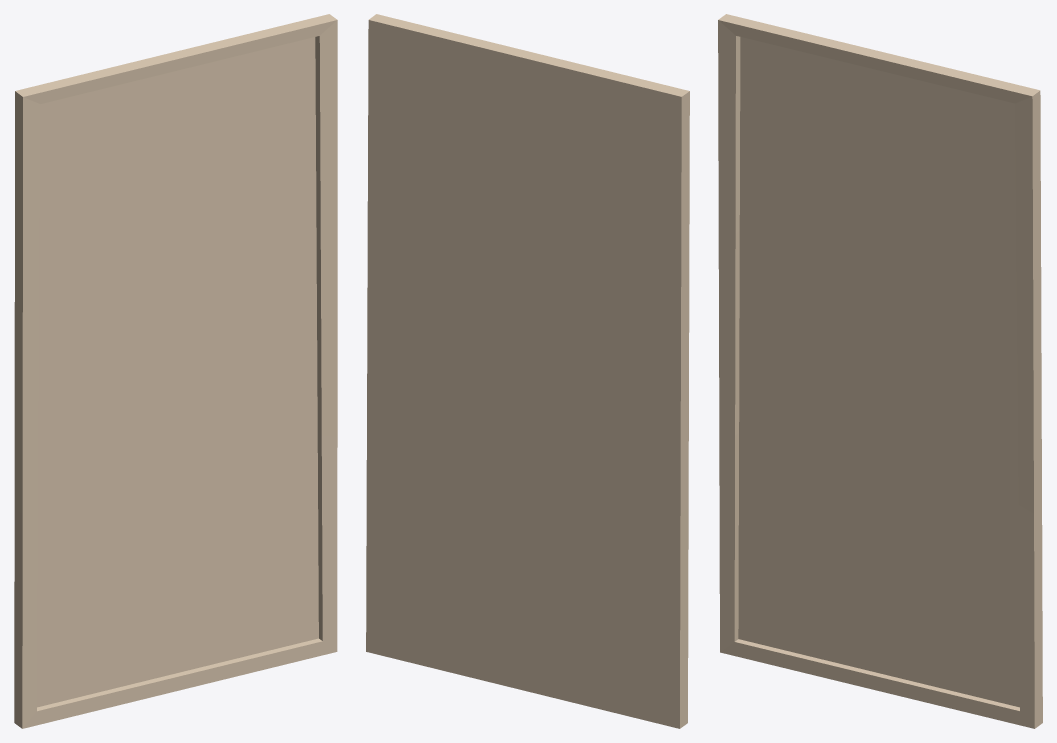
File: panneau.fbx
3 renders of one model, left to right at view 1: azimuth 30°, elevation 25°; view 2: azimuth 150°, elevation 25°; view 3: azimuth 330°, elevation 25°, orthographic.
Parts seen in each view (by area): view 1: PanneauSol.001; view 2: PanneauSol.001; view 3: PanneauSol.001.
Boxes of the visible parts, bbox=[...] form: PanneauSol.001: bbox=[14, 14, 337, 728]; PanneauSol.001: bbox=[366, 14, 689, 728]; PanneauSol.001: bbox=[718, 14, 1042, 728].
Bounding box in the file's own units: 200 × 385 × 10.5.
